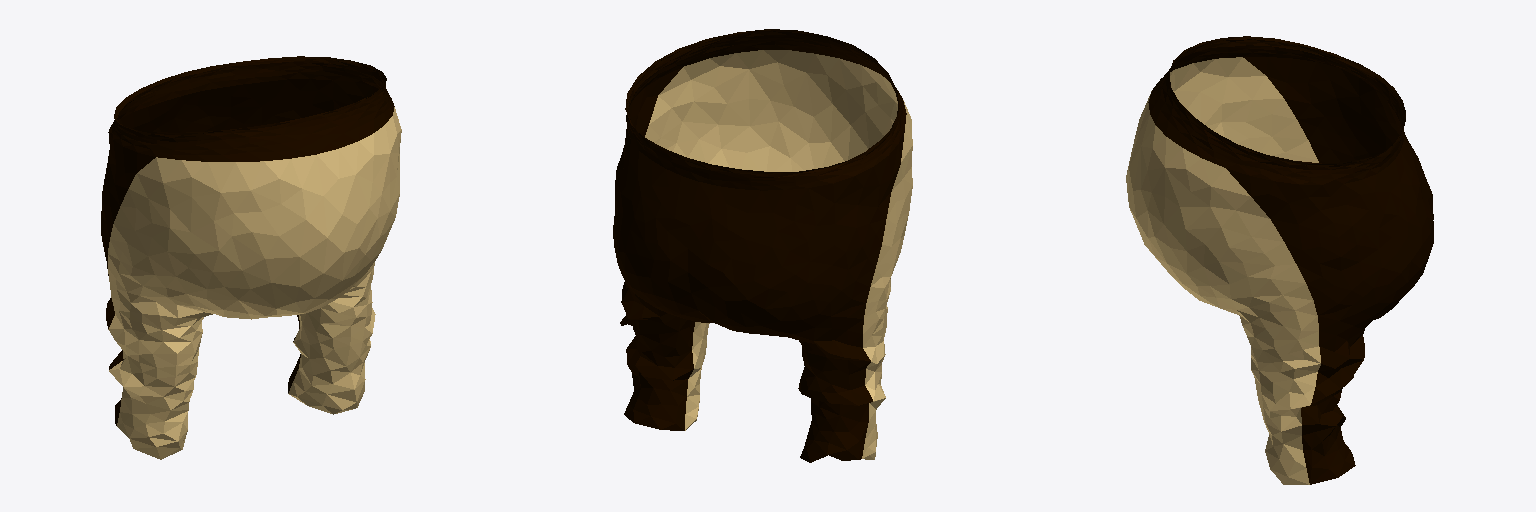
Rendered from donfernando_pants.obj.
3 renders of one model, left to right at view 1: azimuth 30°, elevation 25°; view 2: azimuth 150°, elevation 25°; view 3: azimuth 270°, elevation 25°, orthographic.
Parts seen in each view (by area): view 1: object; view 2: object; view 3: object.
Part boxes in pixels (x1,y1,x2,y2): object: (101, 56, 401, 459); object: (613, 29, 912, 462); object: (1126, 36, 1433, 484).
Bounding box in the file's own units: 0.2026 × 0.2722 × 0.2109.